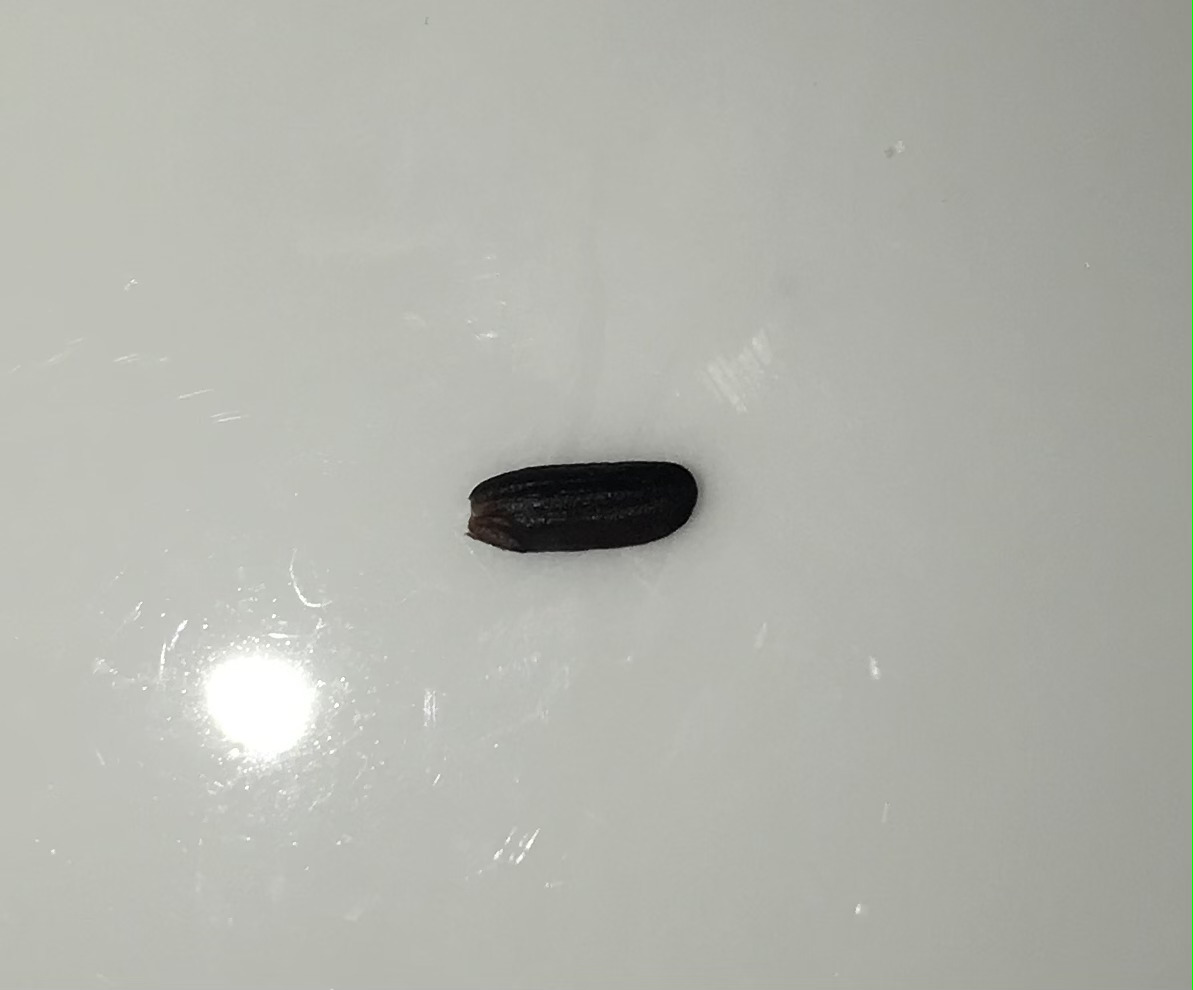Gao lut: (468, 456, 698, 552)
